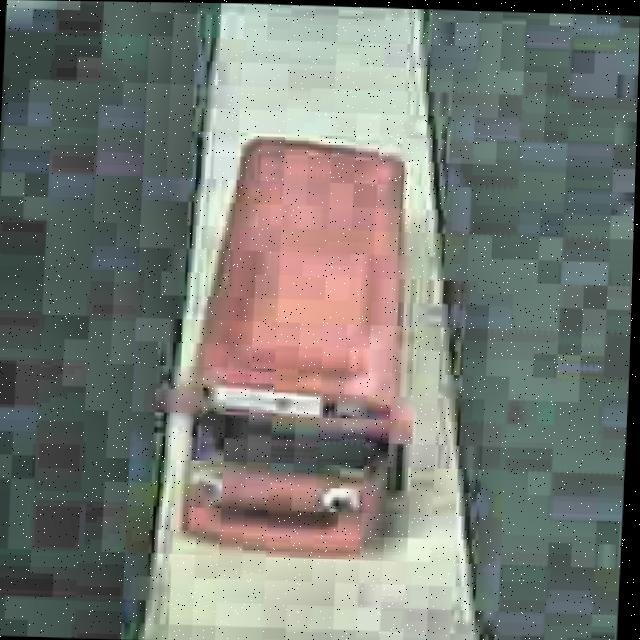bus: (154, 131, 425, 564)
